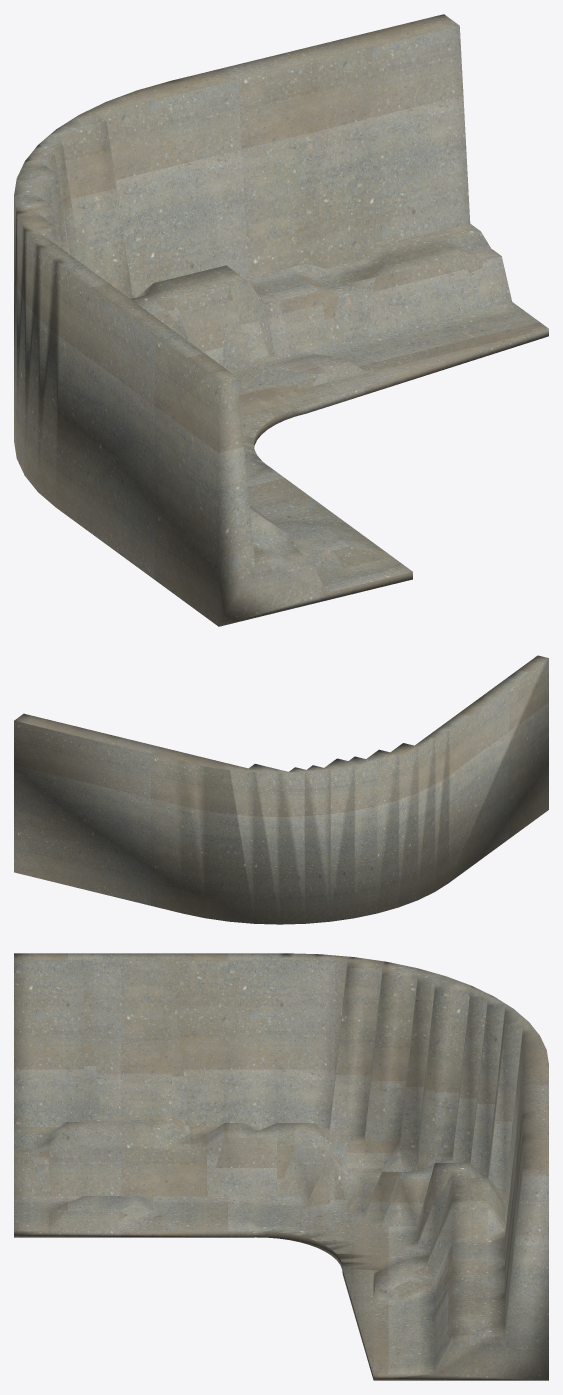
The model's file is leftTurnout.fbx.
The picture shows the model from 3 angles, top to bottom: view 1: azimuth 30°, elevation 25°; view 2: azimuth 150°, elevation 25°; view 3: azimuth 270°, elevation 25°; orthographic projection. The views are drawn at different scales.
Visible parts, largest first — view 1: Group1; view 2: Group1; view 3: Group1.
Boxes of the visible parts, box(x1,y1,x2,y2) form: Group1: box(14, 14, 548, 626); Group1: box(14, 655, 548, 924); Group1: box(14, 953, 548, 1380).
Bounding box in the file's own units: 3000 × 1290 × 3050.
